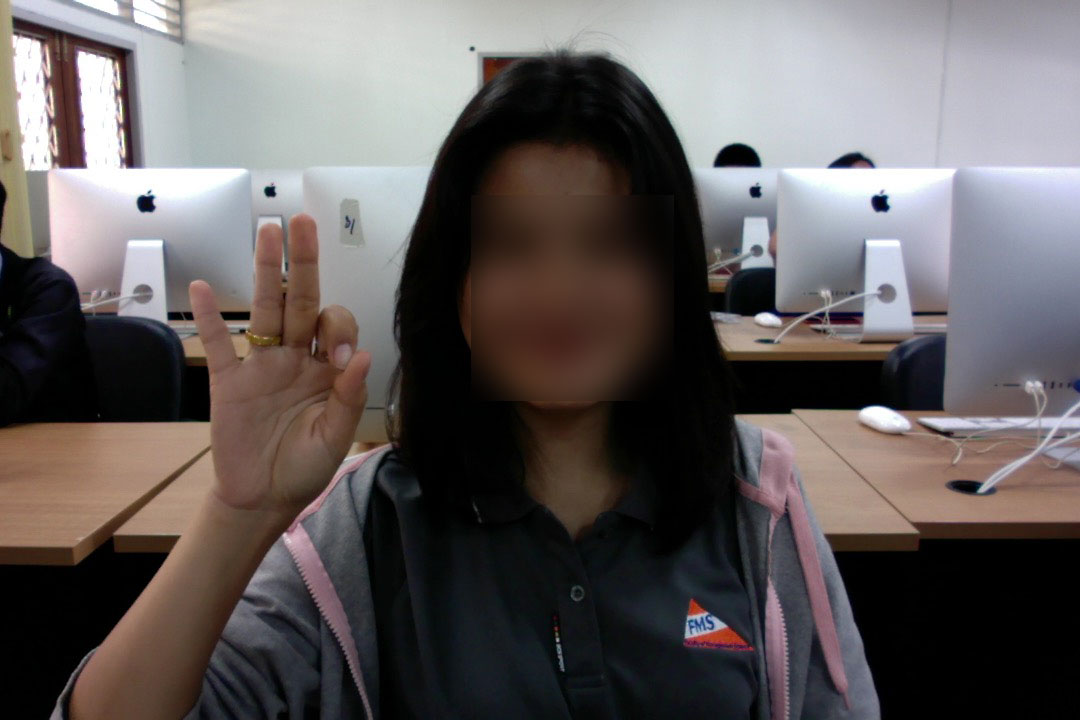for: (173, 200, 378, 527)
